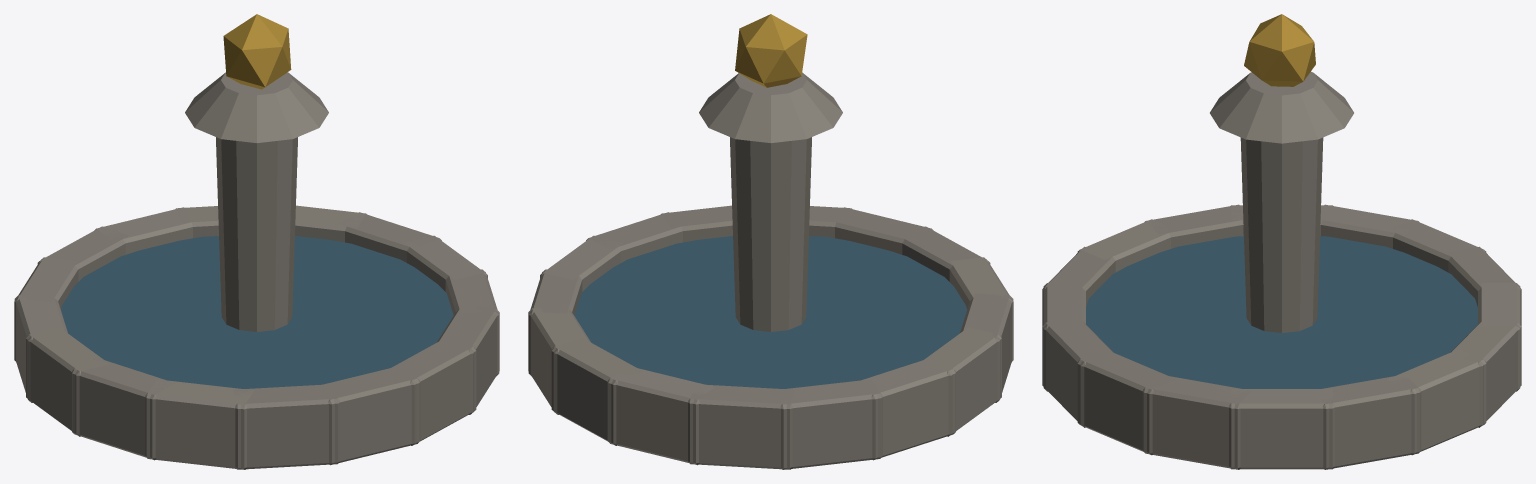
The model's file is fountain_3.glb.
The picture shows the model from 3 angles, left to right: view 1: azimuth 30°, elevation 25°; view 2: azimuth 150°, elevation 25°; view 3: azimuth 270°, elevation 25°; orthographic projection.
Parts seen in each view (by area): view 1: fountain3_stone, fountain3_glass; view 2: fountain3_stone, fountain3_glass; view 3: fountain3_stone, fountain3_glass.
Boxes of the visible parts, left/top/right/bottom form: fountain3_stone: left=14, top=14, right=499, bottom=469; fountain3_glass: left=61, top=236, right=453, bottom=388; fountain3_stone: left=528, top=14, right=1013, bottom=469; fountain3_glass: left=574, top=236, right=966, bottom=388; fountain3_stone: left=1042, top=14, right=1521, bottom=469; fountain3_glass: left=1086, top=236, right=1477, bottom=388.
Size of the model in its own units: 3.97 by 3.26 by 3.97.
